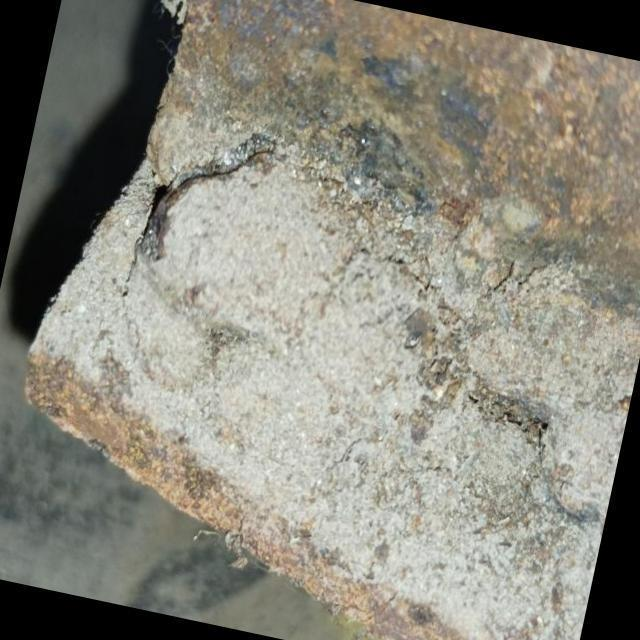defect: (122, 138, 277, 287)
